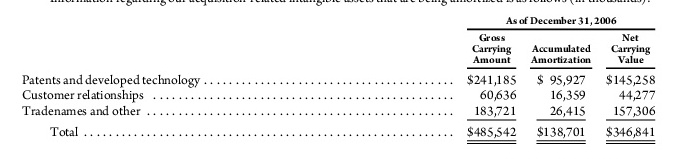table: (0, 0, 675, 159)
